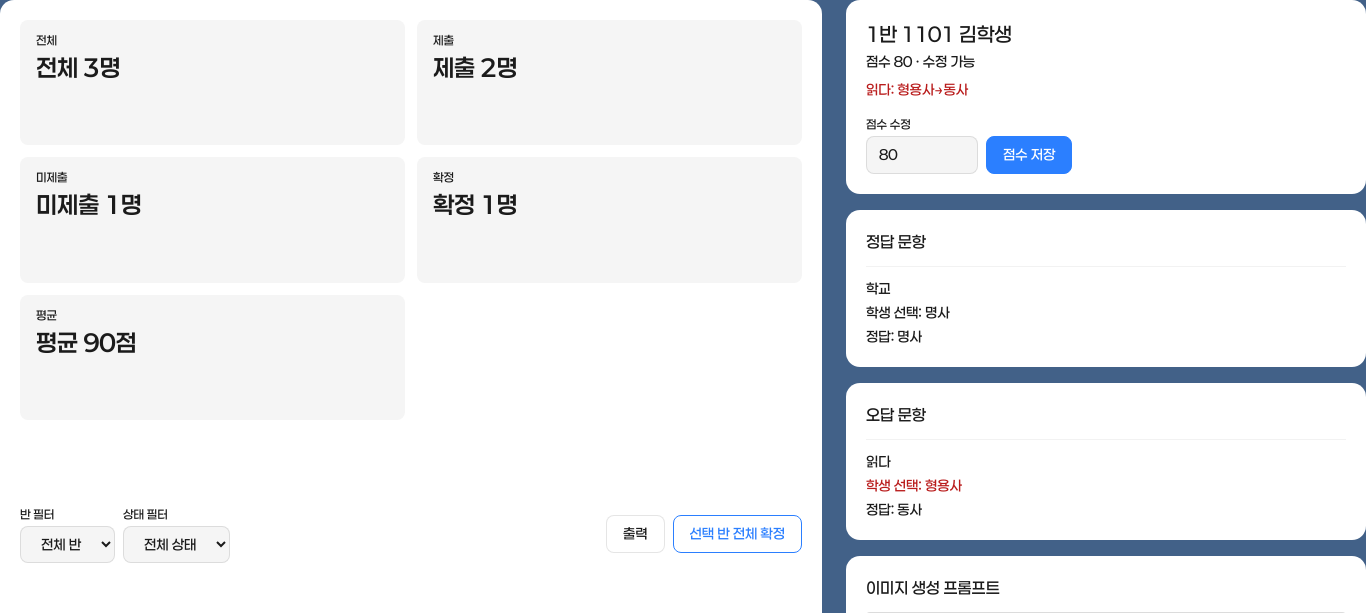
it: TeacherDashboard › saves a teacher-edited score without changing the student's saved answers
Replace the text in the number field labelled "점수 수정" with "90": coordinates (922, 155) 866,136 -> 978,174
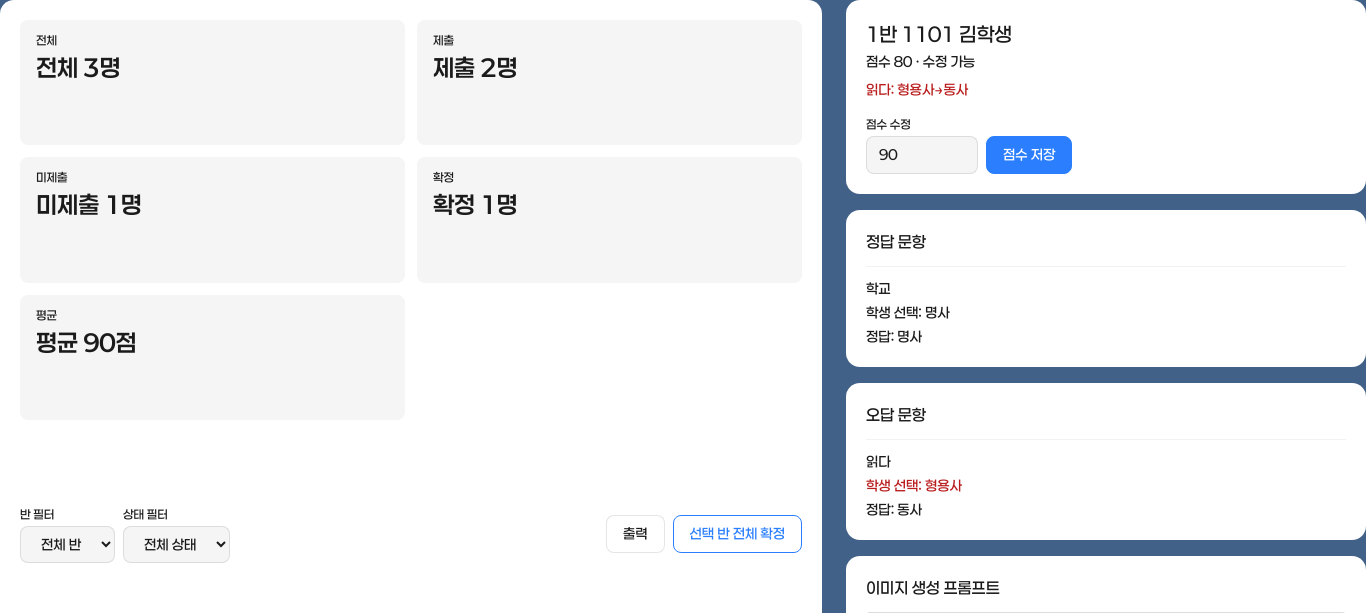
Click the button "점수 저장": coordinates (1029, 155) 986,136 -> 1072,174
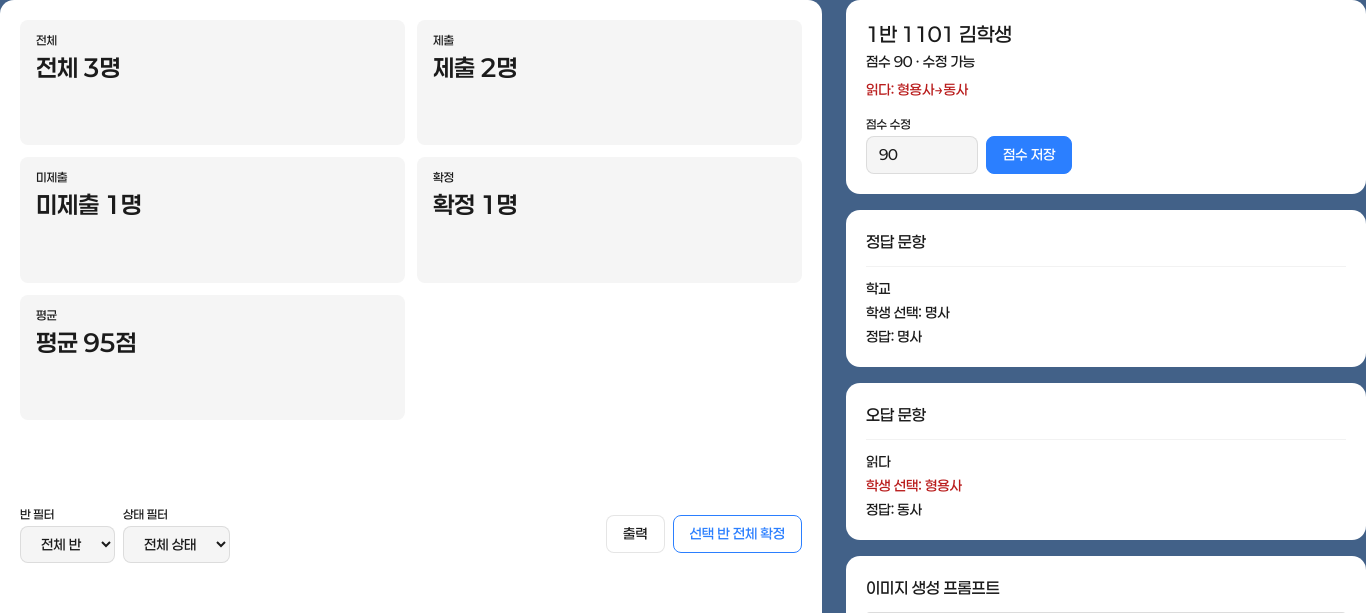
Check: the text "점수 90 · 수정 가능" is shown, box 866,53 -> 975,70
